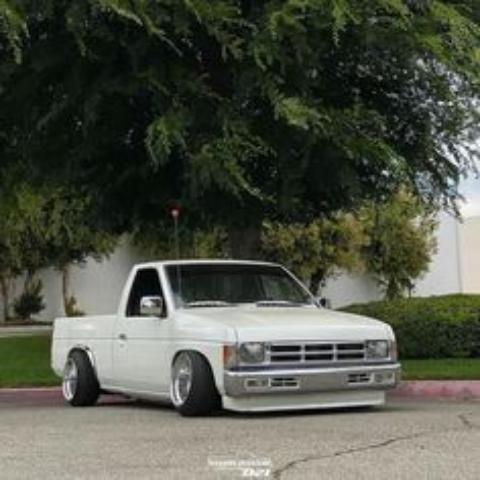pickup-truck: (50, 258, 402, 417)
